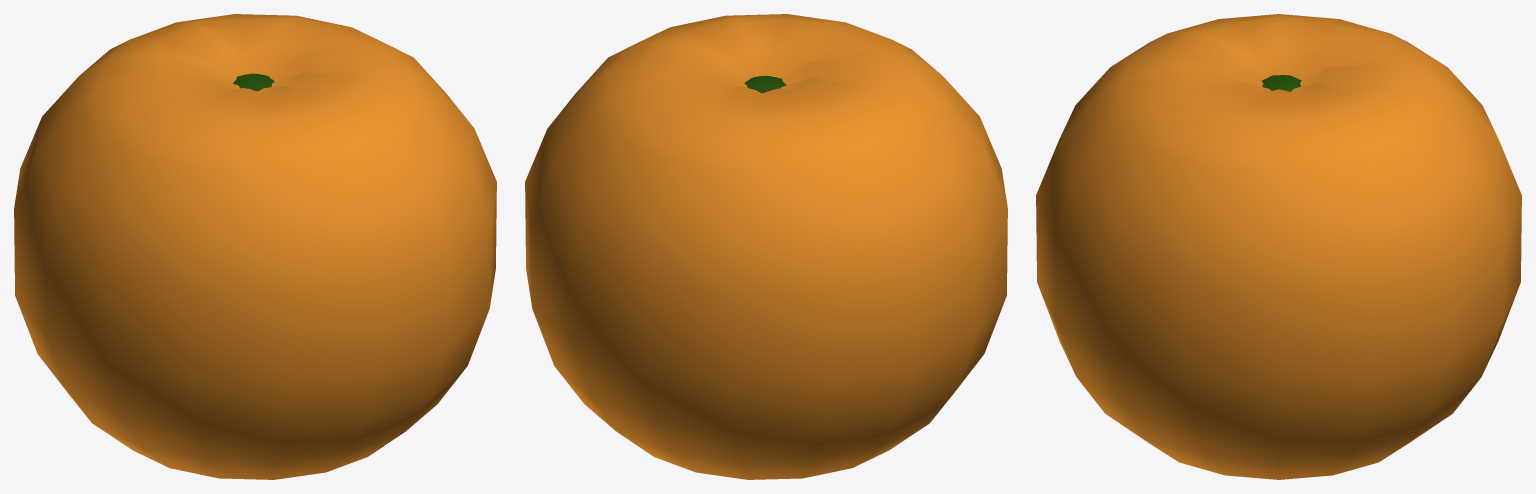
File: Laranja.fbx
The picture shows the model from 3 angles, left to right: view 1: azimuth 30°, elevation 25°; view 2: azimuth 150°, elevation 25°; view 3: azimuth 270°, elevation 25°; orthographic projection.
Visible parts, largest first — view 1: orange_lp, Cylinder.003; view 2: orange_lp, Cylinder.003; view 3: orange_lp, Cylinder.003.
Boxes of the visible parts, bbox=[...] form: orange_lp: bbox=[14, 14, 496, 479]; Cylinder.003: bbox=[233, 73, 274, 91]; orange_lp: bbox=[525, 14, 1007, 479]; Cylinder.003: bbox=[744, 75, 786, 93]; orange_lp: bbox=[1036, 14, 1521, 479]; Cylinder.003: bbox=[1262, 75, 1301, 91].
Size of the model in its own units: 198 by 170 by 198.
